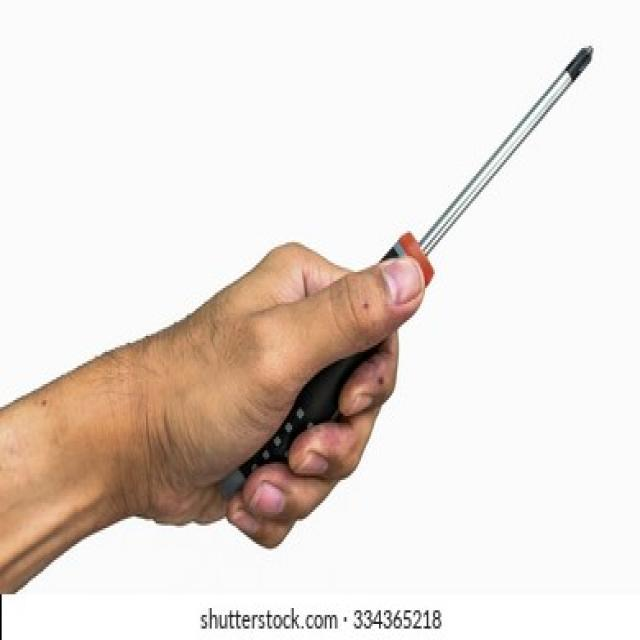screwdriver: (221, 40, 598, 508)
